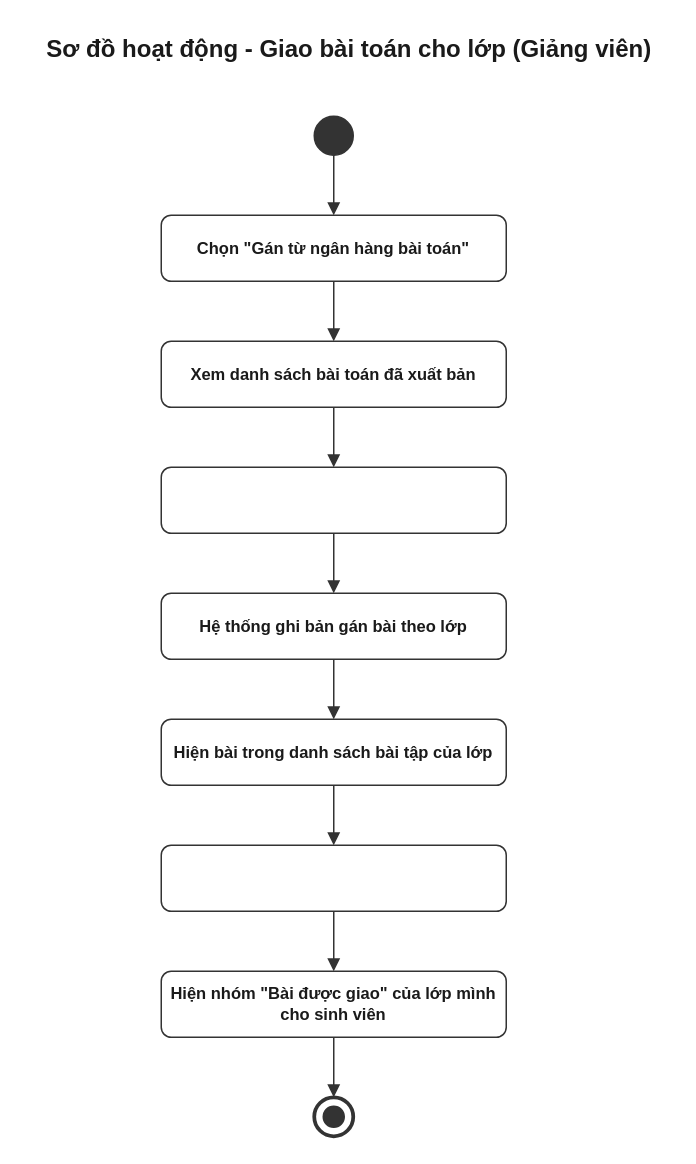
This 696x1164 diagram has some shape labels left out. The centre of each missing label's shape, as x and y in pixels:
Chọn bài và bấm "Gán cho lớp": point 333,499
Sinh viên mở danh sách bài toán: point 333,877
